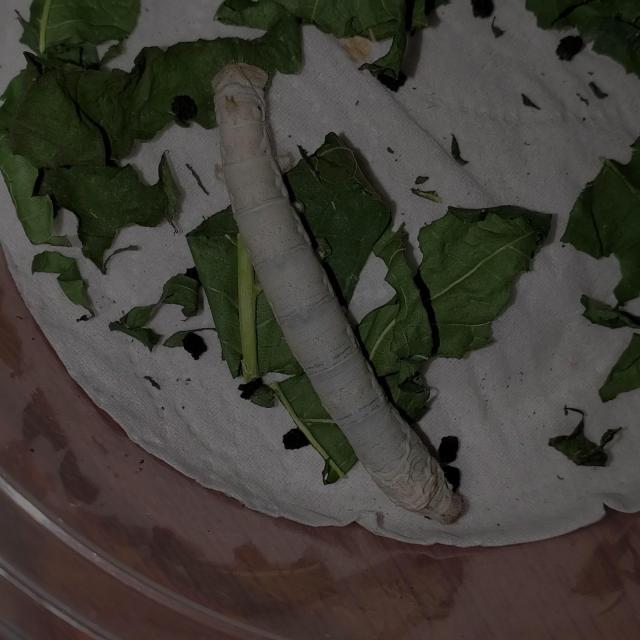Healthy: (200, 46, 483, 546)
